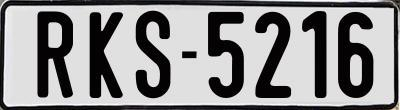1: (300, 9, 328, 96)
2: (254, 11, 295, 98)
5: (205, 11, 246, 103)
6: (338, 12, 379, 104)
K: (89, 9, 122, 96)
R: (35, 8, 73, 97)
S: (136, 9, 173, 98)
